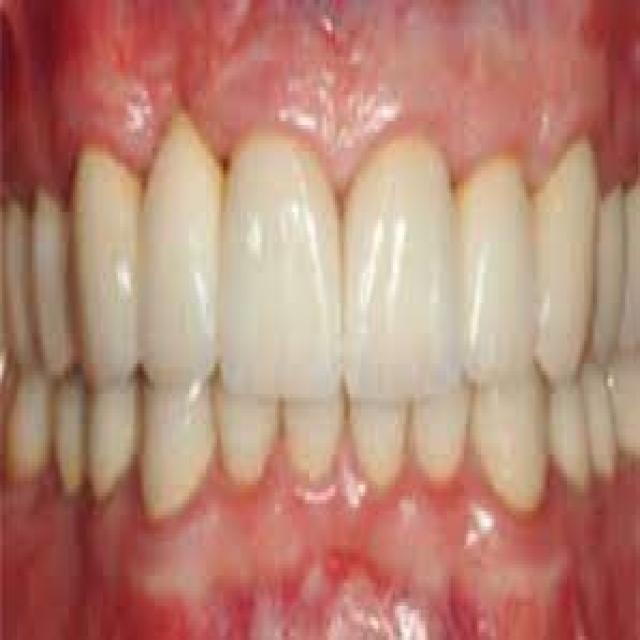tooth: (214, 121, 344, 409), (333, 148, 457, 390), (133, 110, 219, 375), (458, 148, 542, 386), (69, 136, 137, 390), (541, 121, 593, 379), (26, 166, 81, 378), (468, 383, 554, 515), (142, 383, 206, 515), (591, 167, 627, 371), (82, 382, 142, 500), (2, 174, 37, 364), (217, 390, 277, 500), (2, 356, 54, 477), (352, 409, 419, 492), (412, 398, 475, 484), (52, 378, 90, 488), (580, 375, 618, 485), (620, 174, 640, 374), (286, 401, 335, 481), (548, 386, 584, 485), (612, 382, 640, 473)
